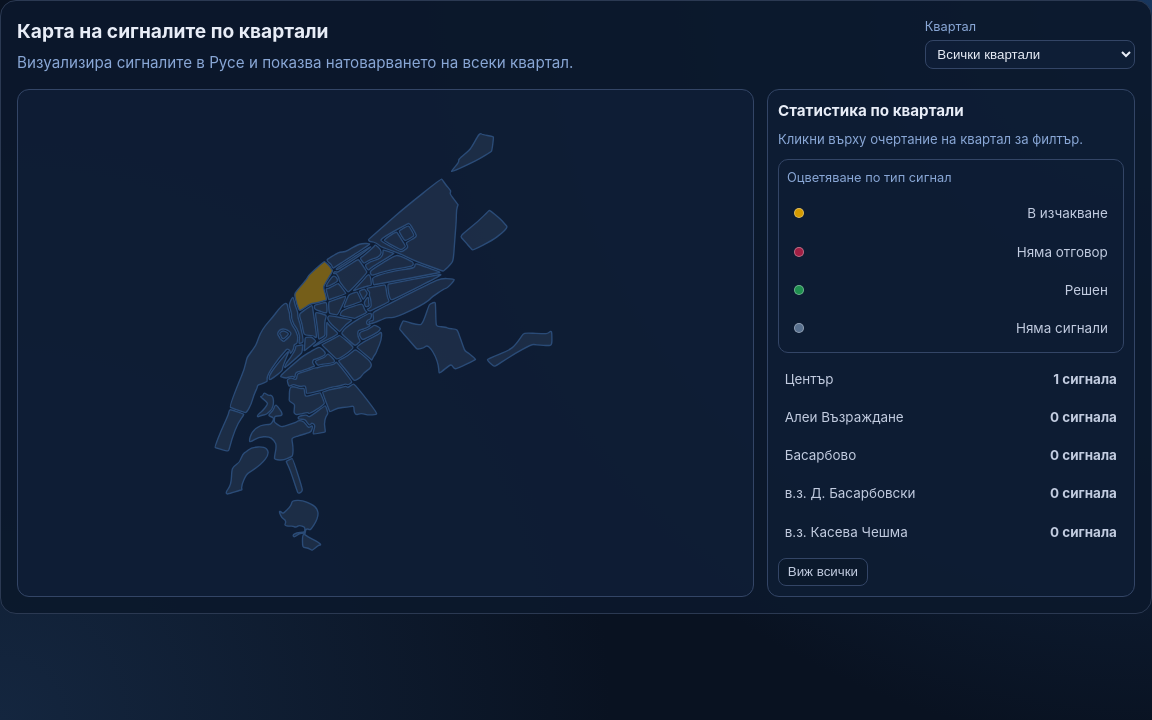
Test case: NeighborhoodMapCard › renders the neighborhood stats list collapsed to 5 entries with an expand button
This screenshot has width=1152, height=720.
Expected: the number of buttons "Център 1 сигнала" is 5, x1=785 y1=371 x2=1117 y2=387; x1=785 y1=409 x2=1117 y2=425; x1=785 y1=447 x2=1117 y2=463; x1=785 y1=486 x2=1117 y2=502; x1=785 y1=524 x2=1117 y2=540
Click the button "Виж всички" at (823, 572), box x1=778 y1=558 x2=868 y2=586
(page scrolled)
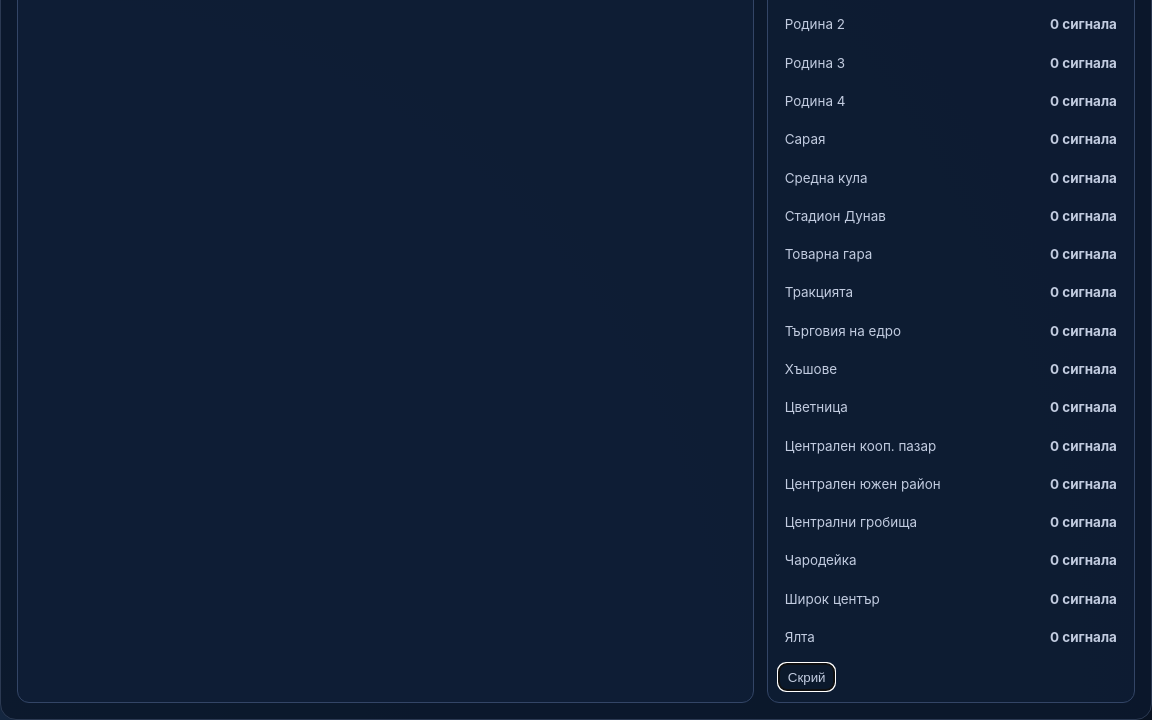
Expected: the button "Скрий" is shown, x1=778 y1=663 x2=835 y2=691
